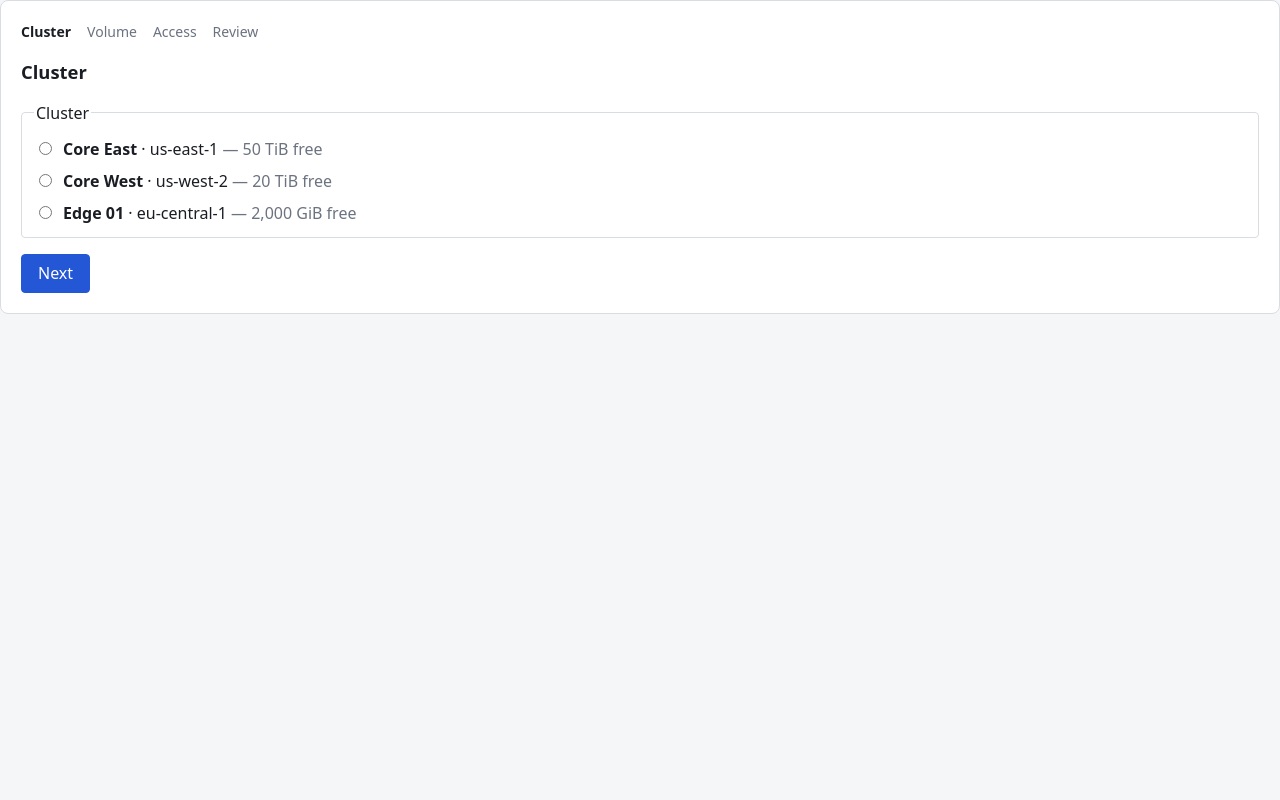
Test: VolumeStep › shows an error for a taken name
Click the radio button labelled "Core East · us-east-1 — 50 TiB free" at (46, 148), box 39,142 -> 52,155
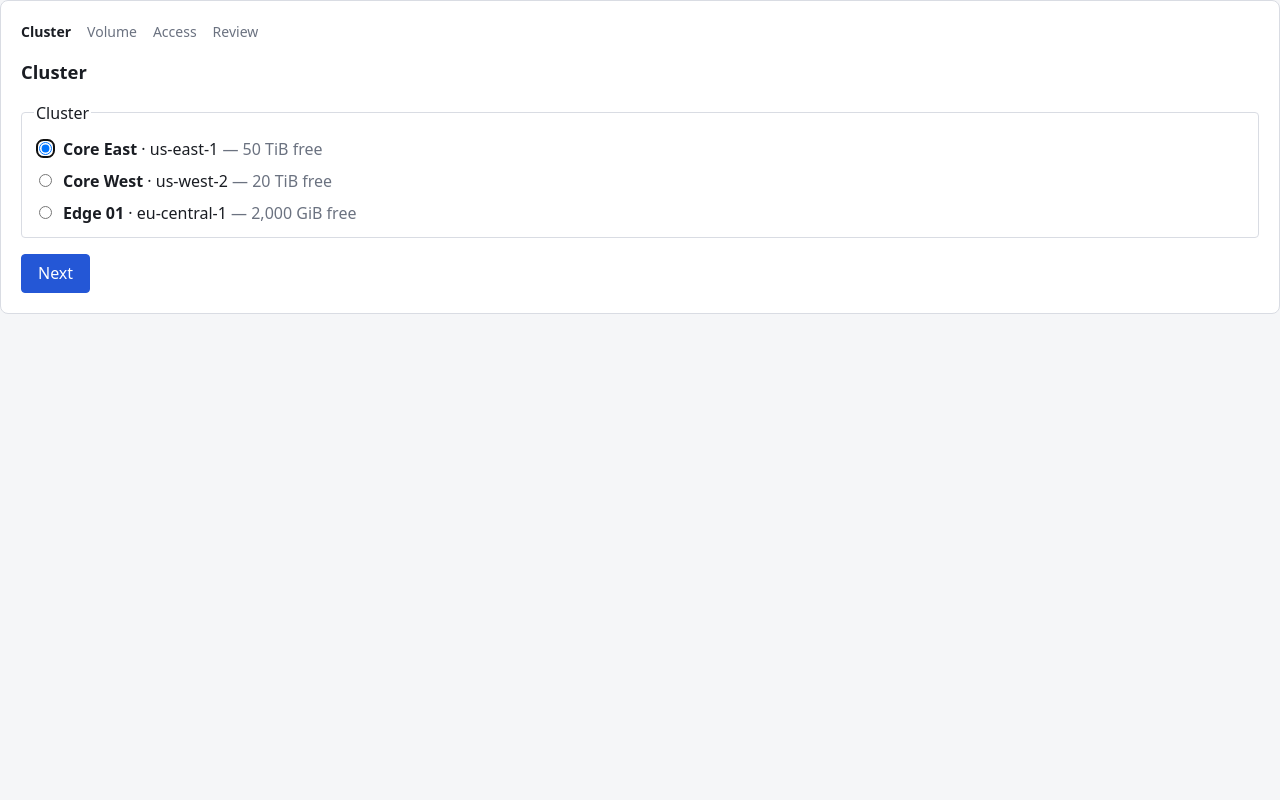
Click the button "Next" at (56, 273), box 21,254 -> 90,293
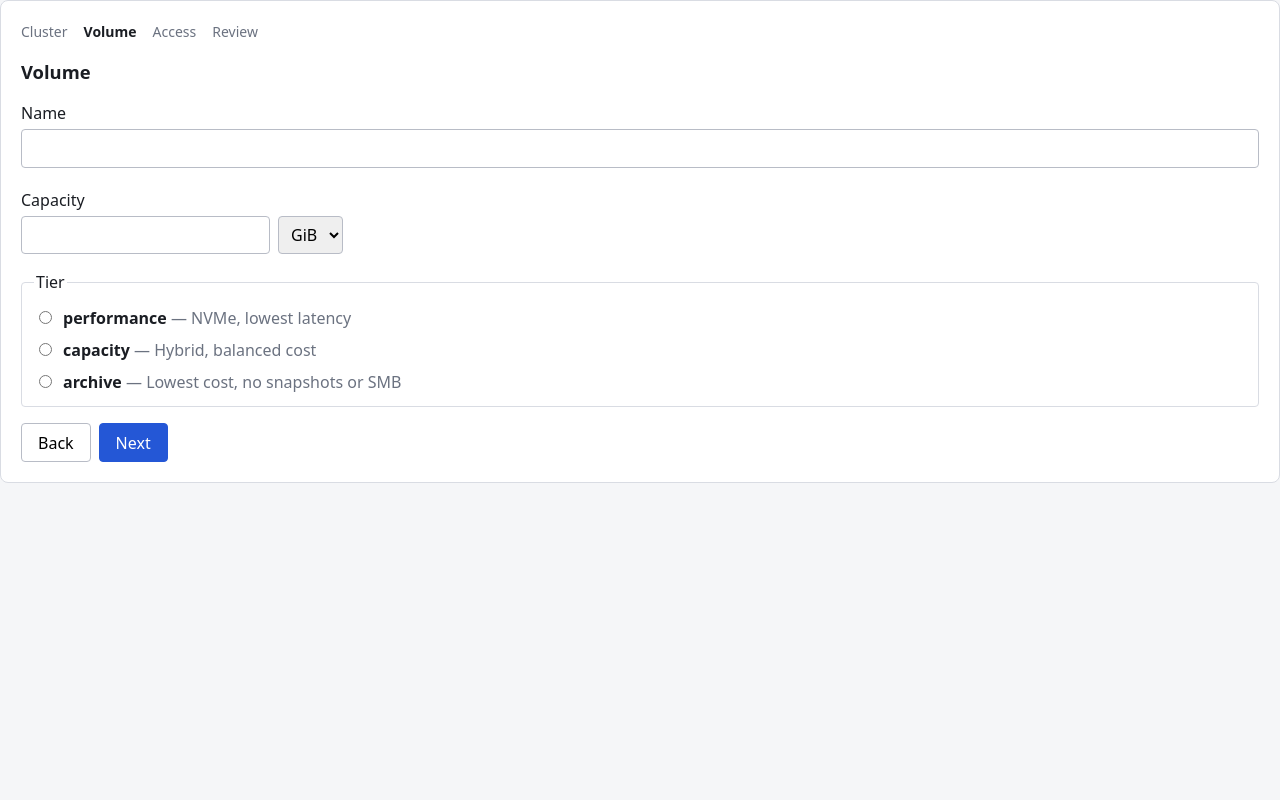
Type "scratch" into the field labelled "Name" at (640, 148), box 21,129 -> 1259,168
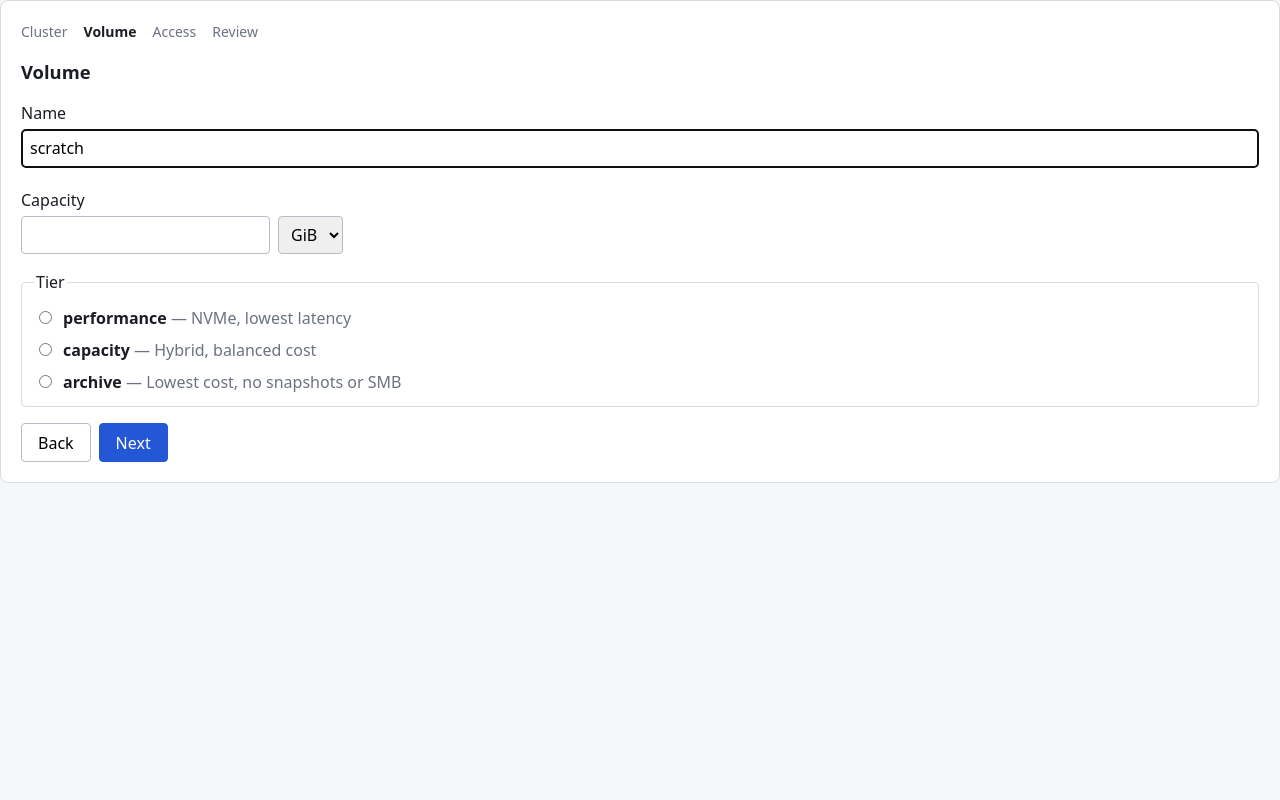
Click the button "Next" at (133, 443), box 99,423 -> 168,462
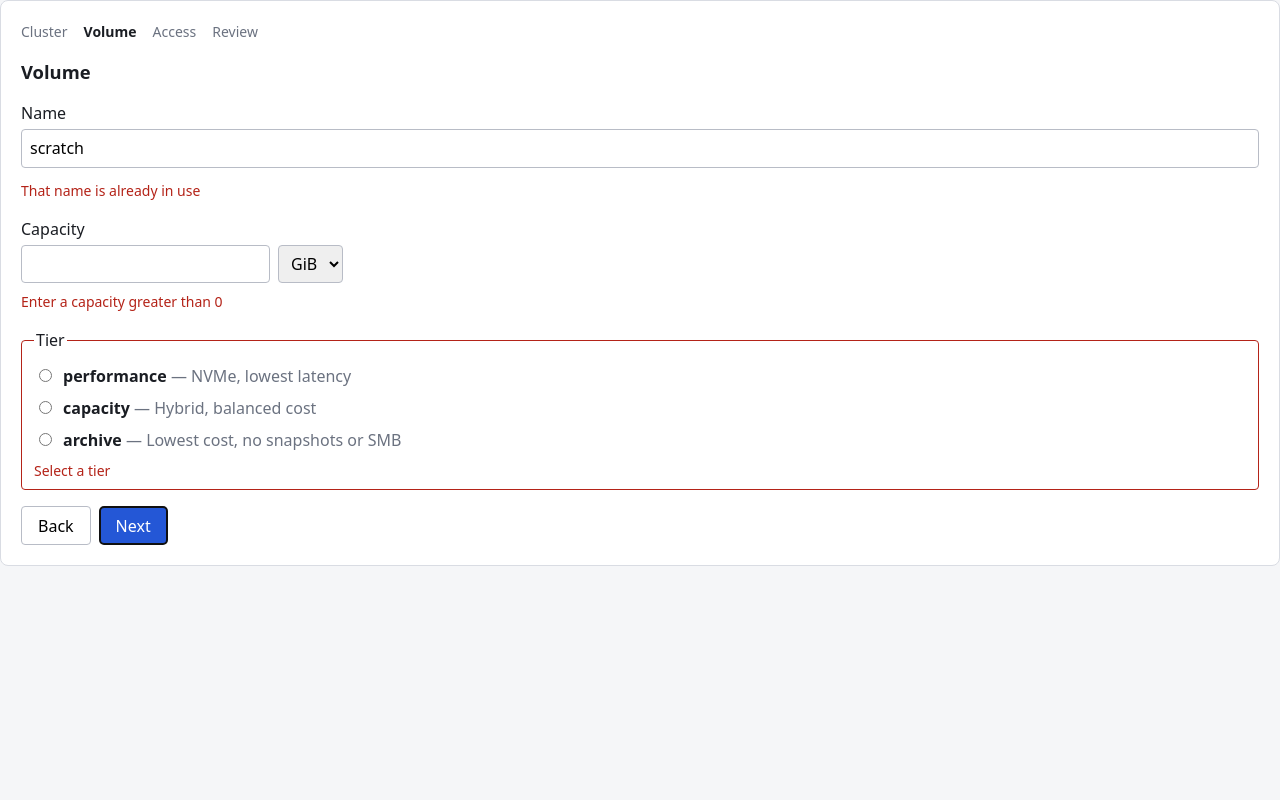
Now the text "That name is already in use" is shown, box 21,181 -> 200,200
